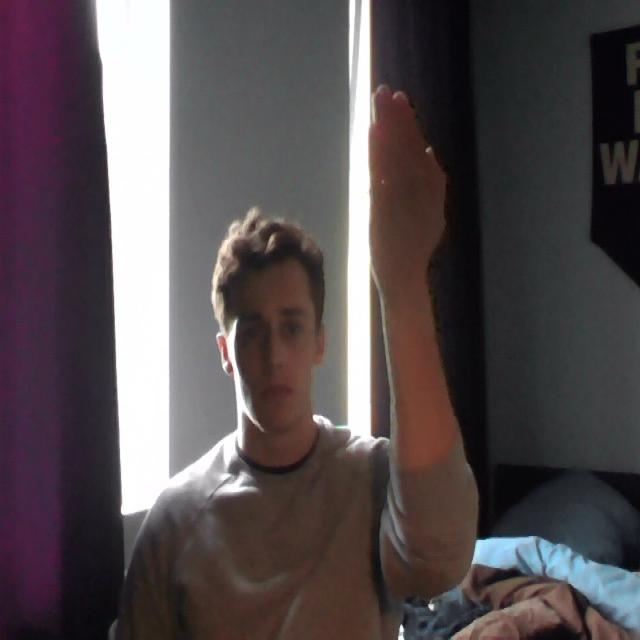forward: (351, 77, 465, 289)
